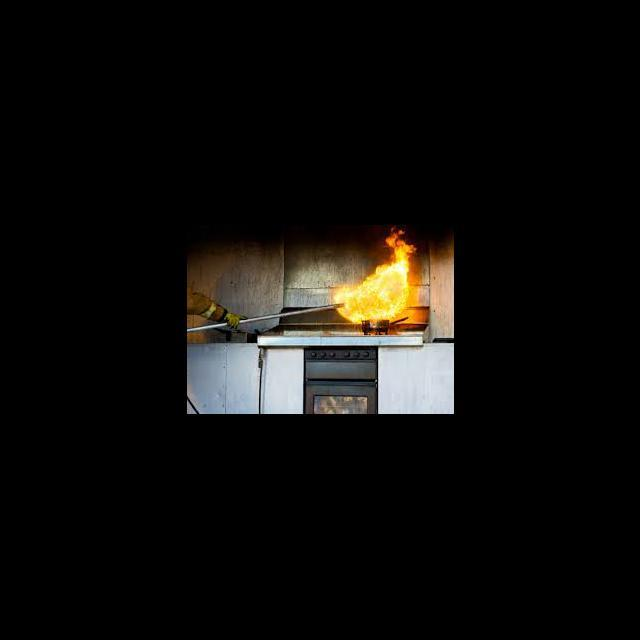Fire: (332, 226, 418, 323)
